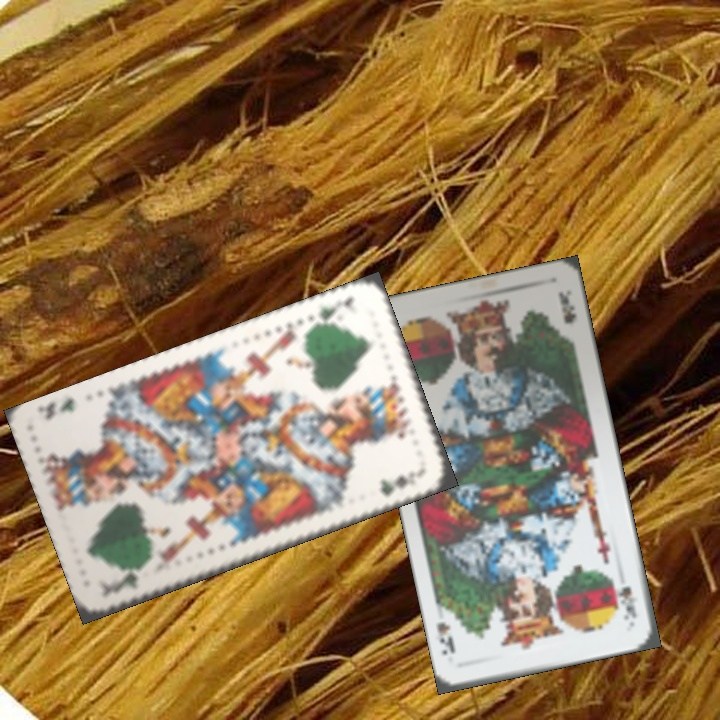GK: (308, 292, 357, 331), (103, 564, 148, 597)
SK: (614, 582, 640, 622)
